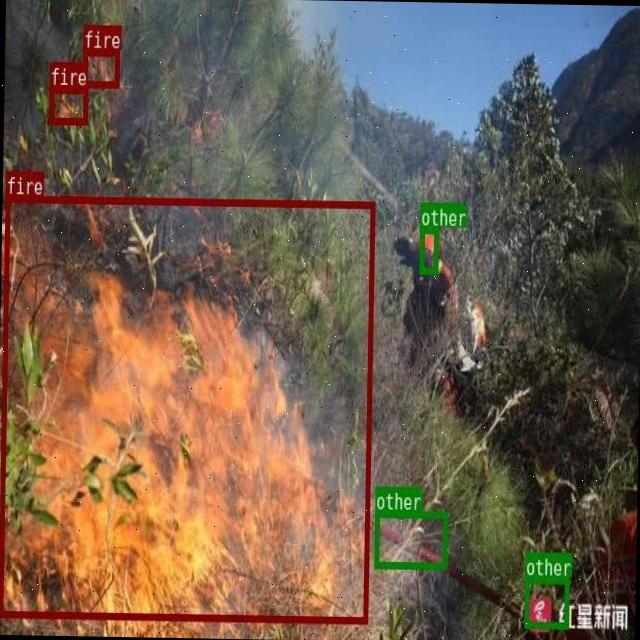fire: (0, 193, 374, 622), (48, 85, 87, 124), (81, 46, 119, 86)
